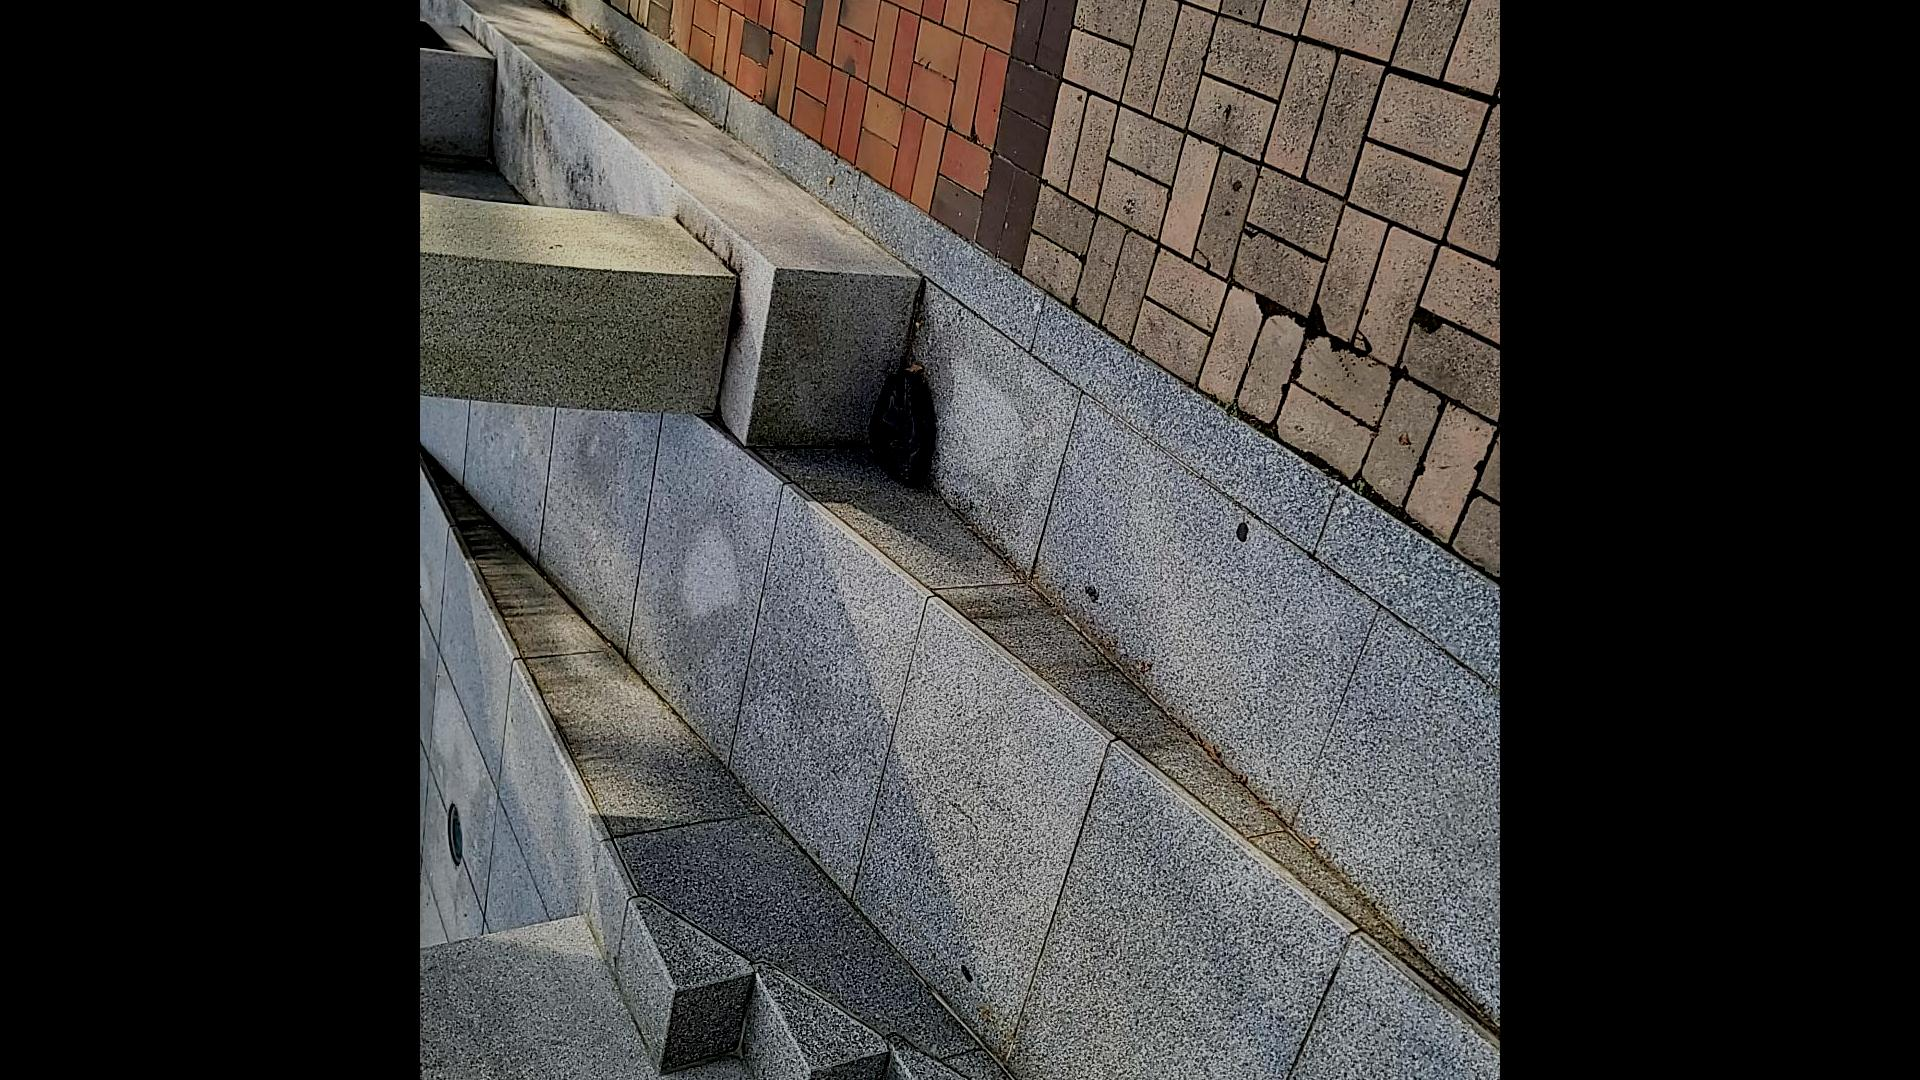black_bag: (861, 365, 939, 491)
